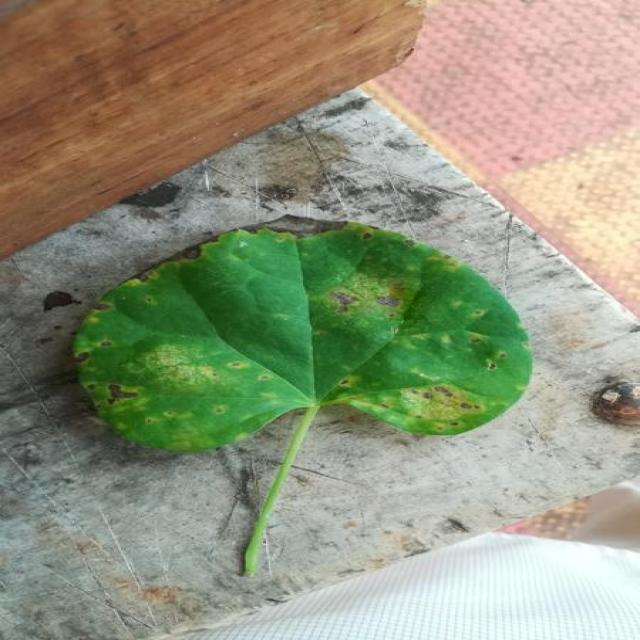Amruthaballi: (73, 222, 532, 503), (75, 224, 532, 451)
defectedAmruthaballi: (299, 224, 532, 434)
